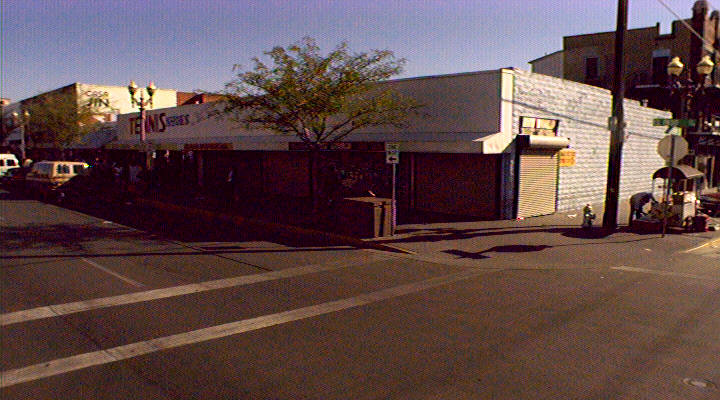Ramp: (381, 221, 706, 272)
